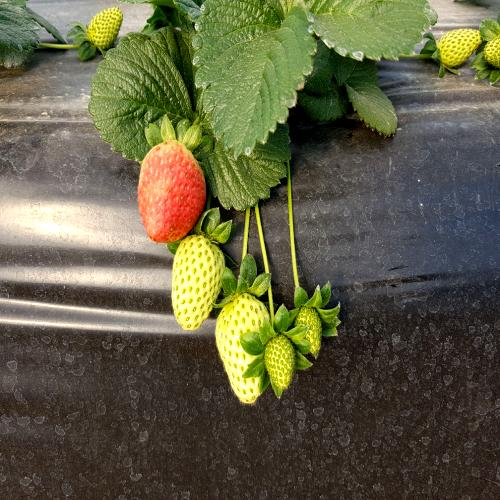ripe: (130, 139, 209, 241)
